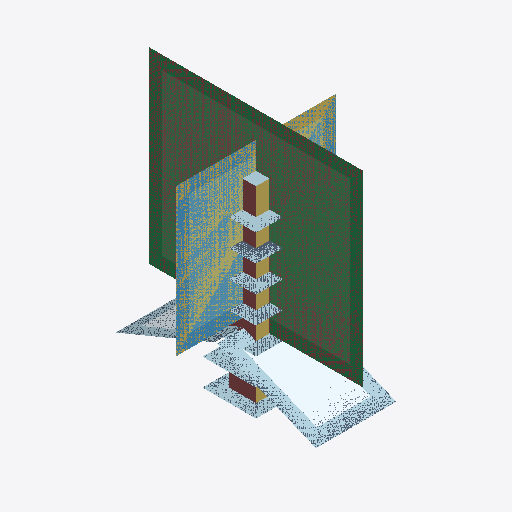
Isometric view (azimuth 45°, elevation 35.3°) of a Minecraft model made of 12 cuboids, textured from the same repository.
Parts seen in each view (by area): element 11, element 12, element 3, element 1, element 2, element 4, element 7, element 8, element 9, element 10, element 5.
Part boxes in pixels (left/top/right/bottom): element 11: left=149, top=47, right=362, bottom=386; element 12: left=176, top=94, right=335, bottom=355; element 3: left=217, top=328, right=395, bottom=447; element 1: left=229, top=171, right=268, bottom=402; element 2: left=116, top=298, right=240, bottom=341; element 4: left=203, top=373, right=275, bottom=417; element 7: left=230, top=303, right=281, bottom=324; element 8: left=230, top=272, right=281, bottom=293; element 9: left=230, top=241, right=281, bottom=262; element 10: left=230, top=210, right=281, bottom=231; element 5: left=203, top=347, right=256, bottom=386.
Bounding box in the file's own units: 12 × 19 × 16.